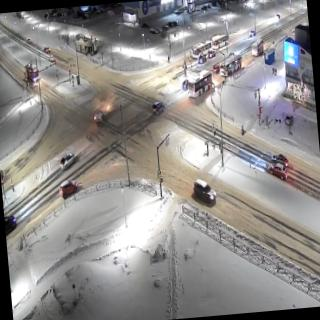large-vehicle: (186, 68, 214, 100), (220, 54, 243, 79), (192, 39, 212, 59), (212, 33, 231, 51), (250, 39, 265, 60), (26, 63, 40, 85)
small-vehicle: (193, 178, 217, 206), (268, 162, 289, 182), (58, 152, 78, 170), (4, 212, 18, 236), (59, 181, 78, 196), (272, 152, 289, 168), (152, 101, 166, 115), (94, 109, 105, 124), (148, 26, 160, 39), (182, 78, 192, 92), (286, 114, 294, 127), (198, 54, 208, 64), (212, 64, 222, 74), (49, 55, 57, 64), (42, 46, 50, 55), (208, 50, 216, 59), (26, 36, 33, 44), (250, 31, 256, 38), (276, 14, 280, 20)
